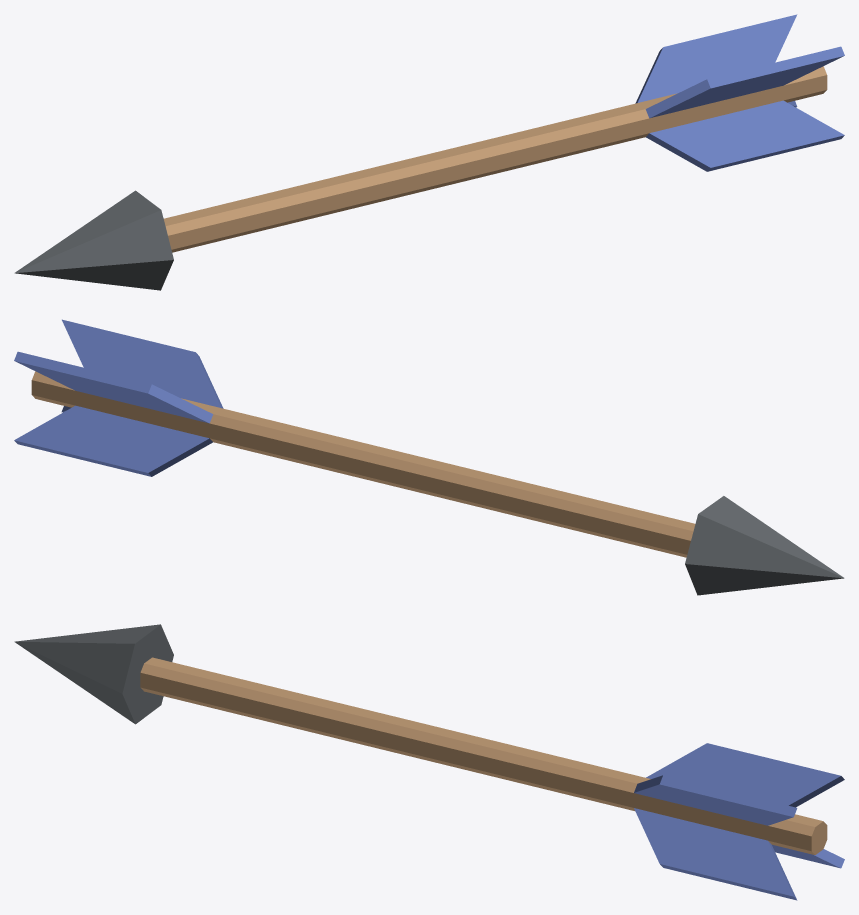
File: arrow.glb
3 views of the same model, one above another, from view 1: azimuth 30°, elevation 25°; view 2: azimuth 150°, elevation 25°; view 3: azimuth 330°, elevation 25° (orthographic).
Parts seen in each view (by area): view 1: Arrow Body, Arrow Feather, Arrow Head; view 2: Arrow Body, Arrow Feather, Arrow Head; view 3: Arrow Body, Arrow Feather, Arrow Head.
Boxes of the visible parts, bbox=[...] form: Arrow Body: bbox=[164, 66, 827, 252]; Arrow Feather: bbox=[635, 14, 844, 171]; Arrow Head: bbox=[14, 190, 173, 290]; Arrow Body: bbox=[31, 371, 695, 557]; Arrow Feather: bbox=[14, 319, 223, 476]; Arrow Head: bbox=[685, 496, 844, 595]; Arrow Body: bbox=[140, 657, 827, 854]; Arrow Feather: bbox=[634, 743, 844, 900]; Arrow Head: bbox=[14, 624, 173, 724].
Size of the model in its own units: 1.8 by 0.198 by 0.2.
